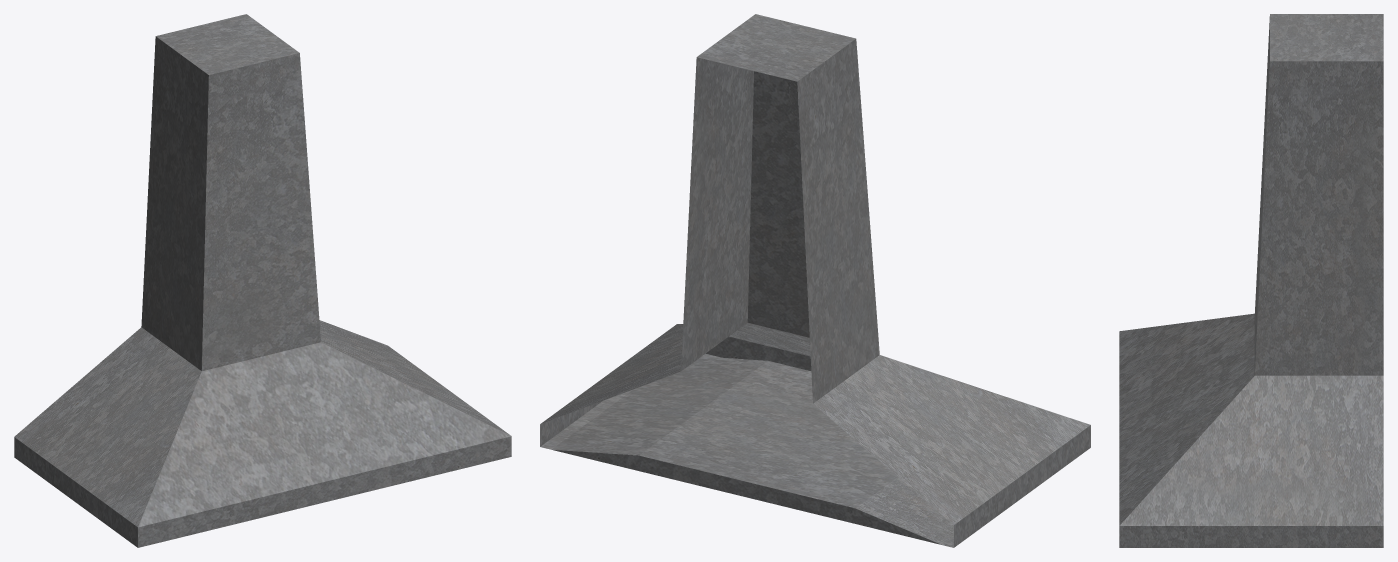
File: SM_Kitchen_Fan.FBX
The picture shows the model from 3 angles, left to right: view 1: azimuth 30°, elevation 25°; view 2: azimuth 150°, elevation 25°; view 3: azimuth 270°, elevation 25°; orthographic projection. The views are drawn at different scales.
Visible parts, largest first — view 1: SM_Kitchen_Fan; view 2: SM_Kitchen_Fan; view 3: SM_Kitchen_Fan.
Part boxes in pixels (box(x1,y1,x2,y2)): SM_Kitchen_Fan: box(14, 14, 511, 547); SM_Kitchen_Fan: box(540, 14, 1090, 547); SM_Kitchen_Fan: box(1119, 14, 1383, 547).
Bounding box in the file's own units: 1.1 × 1.09 × 0.6312.
